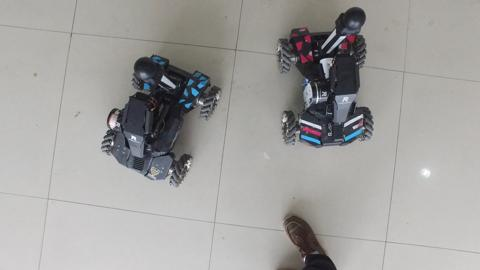chariot: (94, 51, 224, 194), (276, 4, 383, 154)
